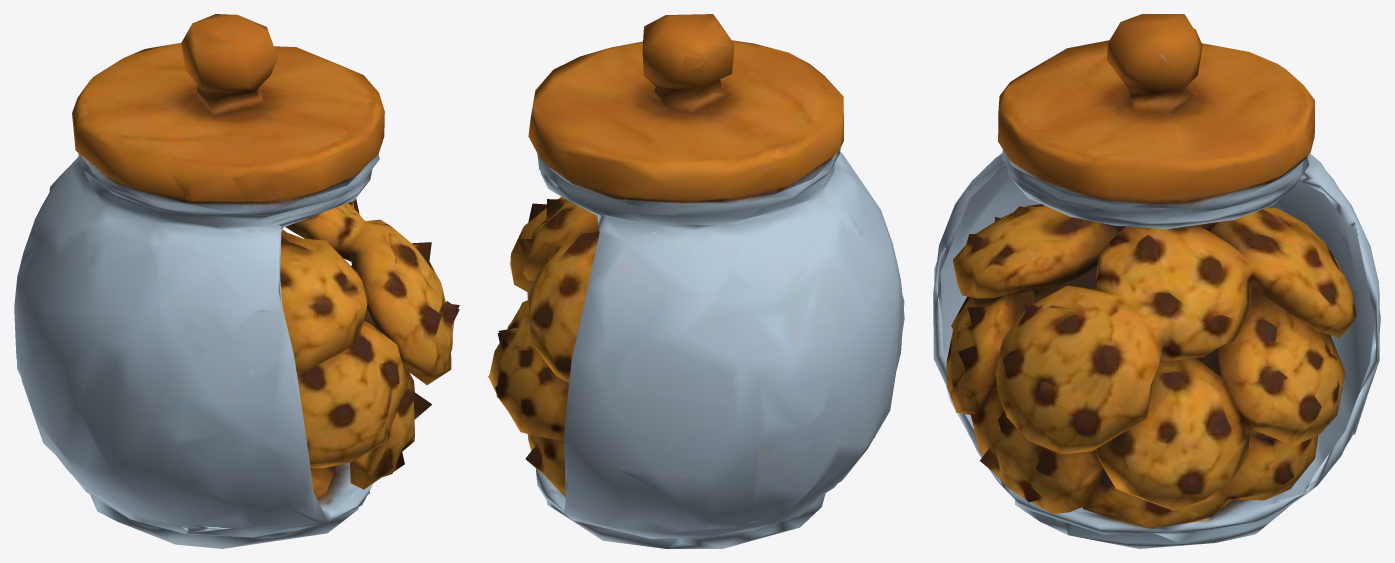
File: SM_Kitchen_CookieJar.glb
The picture shows the model from 3 angles, left to right: view 1: azimuth 30°, elevation 25°; view 2: azimuth 150°, elevation 25°; view 3: azimuth 270°, elevation 25°; orthographic projection.
Visible parts, largest first — view 1: tripo_node_eaabfc07-93a4-4605-9a93-8a479d786a12; view 2: tripo_node_eaabfc07-93a4-4605-9a93-8a479d786a12; view 3: tripo_node_eaabfc07-93a4-4605-9a93-8a479d786a12.
Boxes of the visible parts, x1,y1,x2,y2 form: tripo_node_eaabfc07-93a4-4605-9a93-8a479d786a12: [14, 14, 459, 548]; tripo_node_eaabfc07-93a4-4605-9a93-8a479d786a12: [488, 14, 904, 548]; tripo_node_eaabfc07-93a4-4605-9a93-8a479d786a12: [933, 14, 1380, 548].
Size of the model in its own units: 0.852 by 1 by 0.8568.
1 material, 1 textured.
